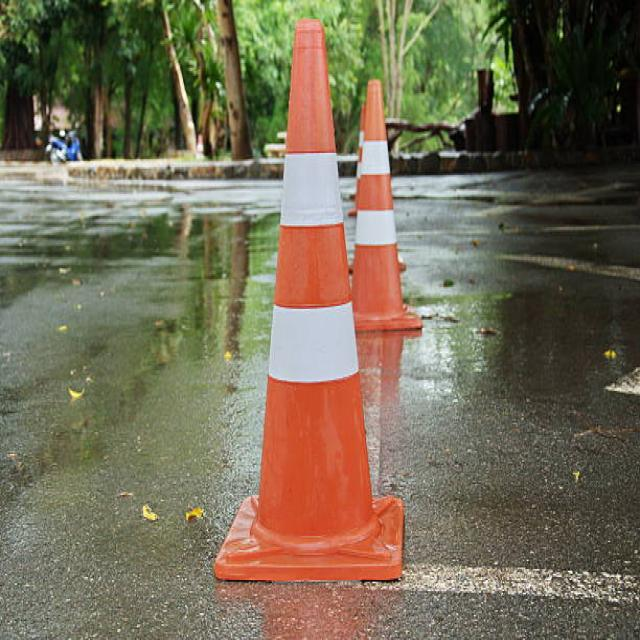Traffic Cone: (195, 0, 416, 617), (334, 59, 426, 354)
